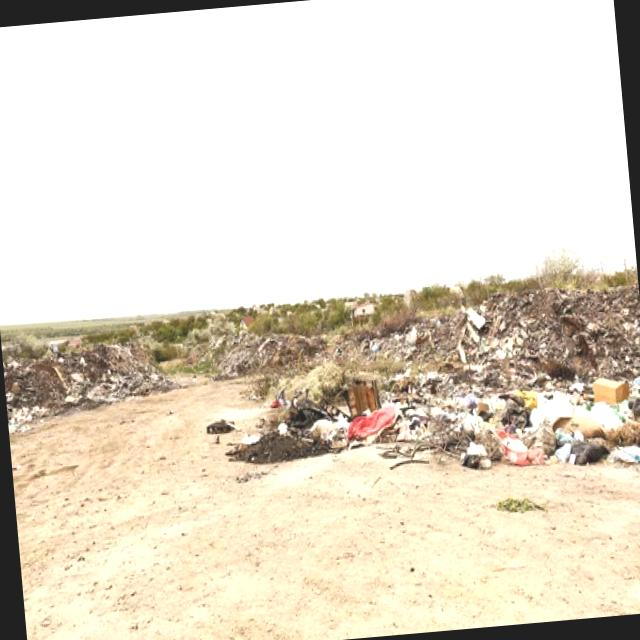garbage: (301, 284, 640, 546), (19, 310, 187, 440)
